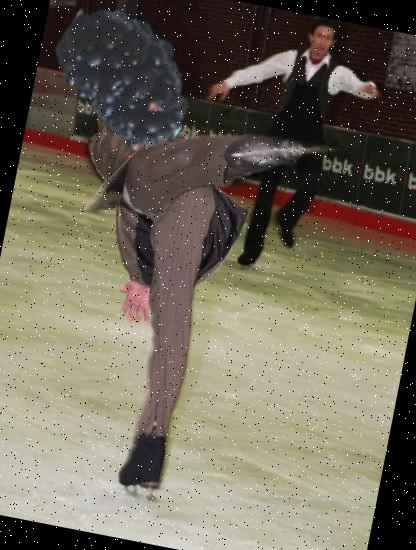Mulberry: (37, 0, 212, 164)
